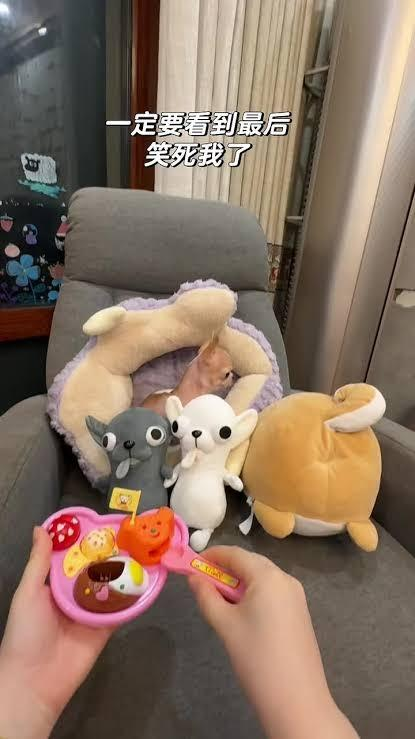non-dog: (1, 3, 415, 739)
puppy-dog: (137, 332, 237, 413)
